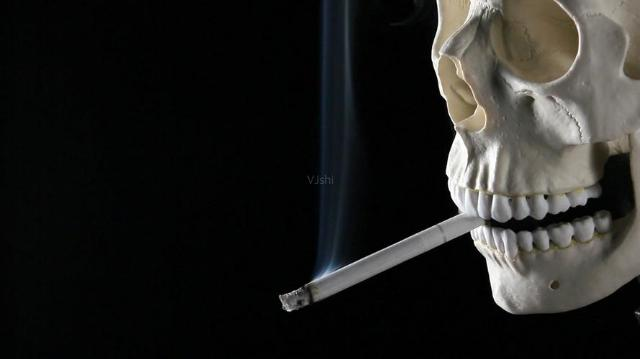Cigarette: (278, 210, 486, 313)
